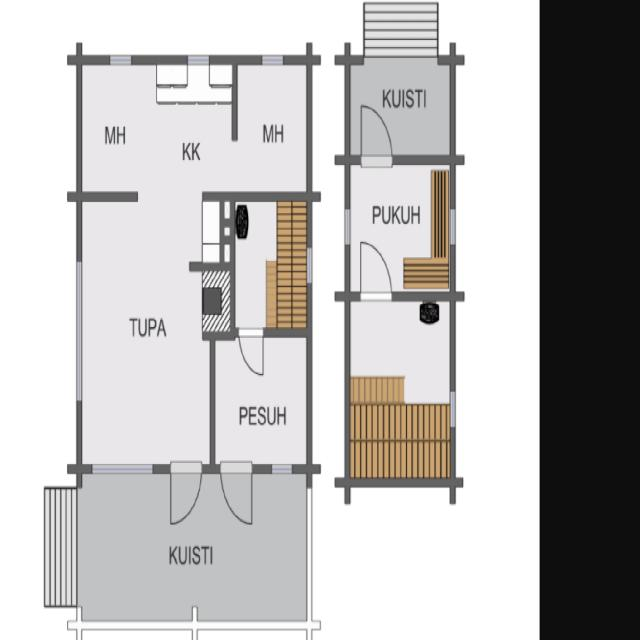door: (220, 464, 252, 528), (171, 464, 201, 527), (239, 328, 263, 380)
